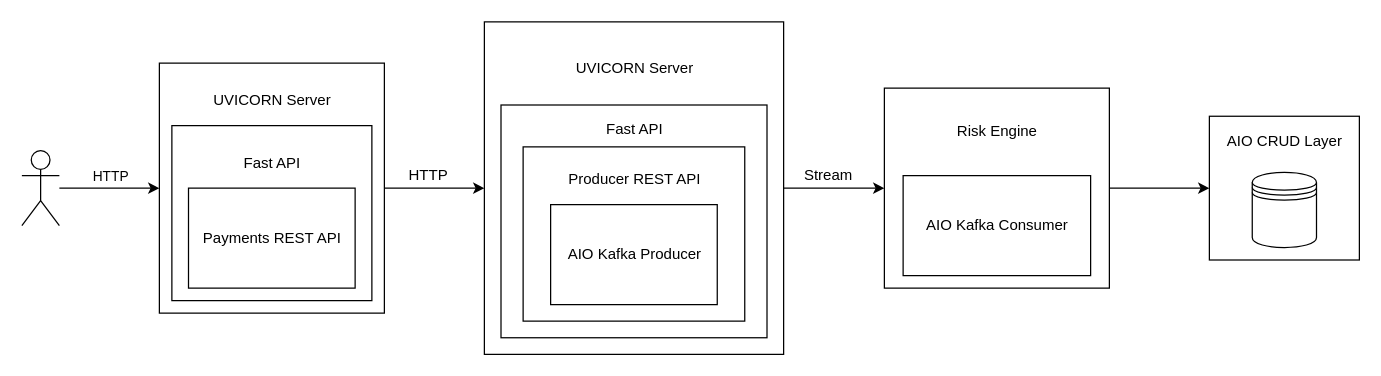
The diagram is 1381 pixels wide and 376 high, and some of its shapes have lost their labels. Each missing label, with the centre of its shape:
"Actor" goes at point 40,187.
"DB" goes at point 1283,209.
